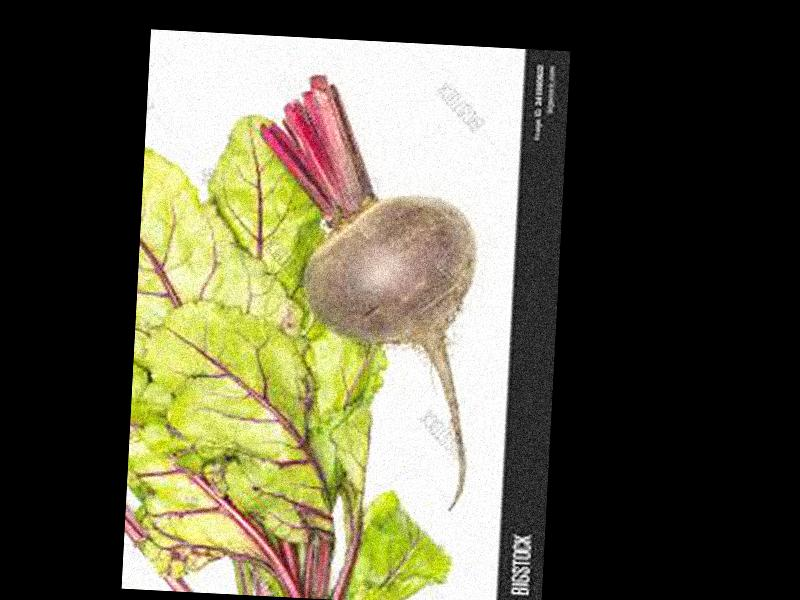Beet: (241, 71, 486, 511)
